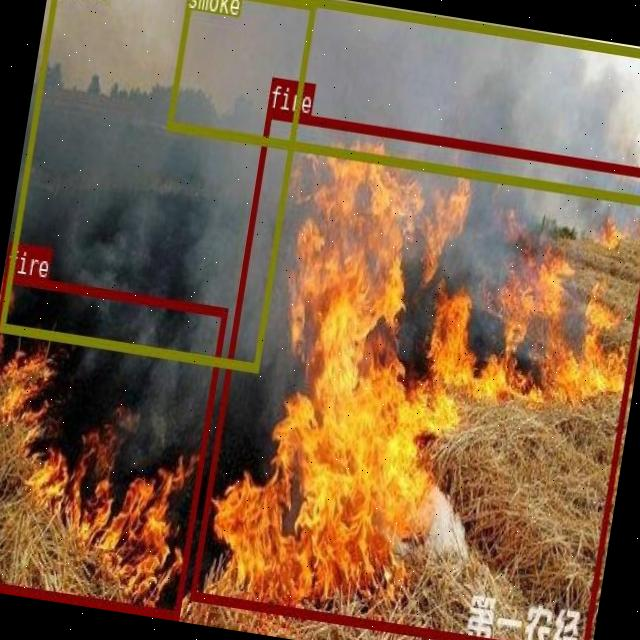fire: (188, 108, 640, 640), (0, 272, 226, 617)
smoke: (0, 0, 315, 370), (166, 0, 640, 204)
